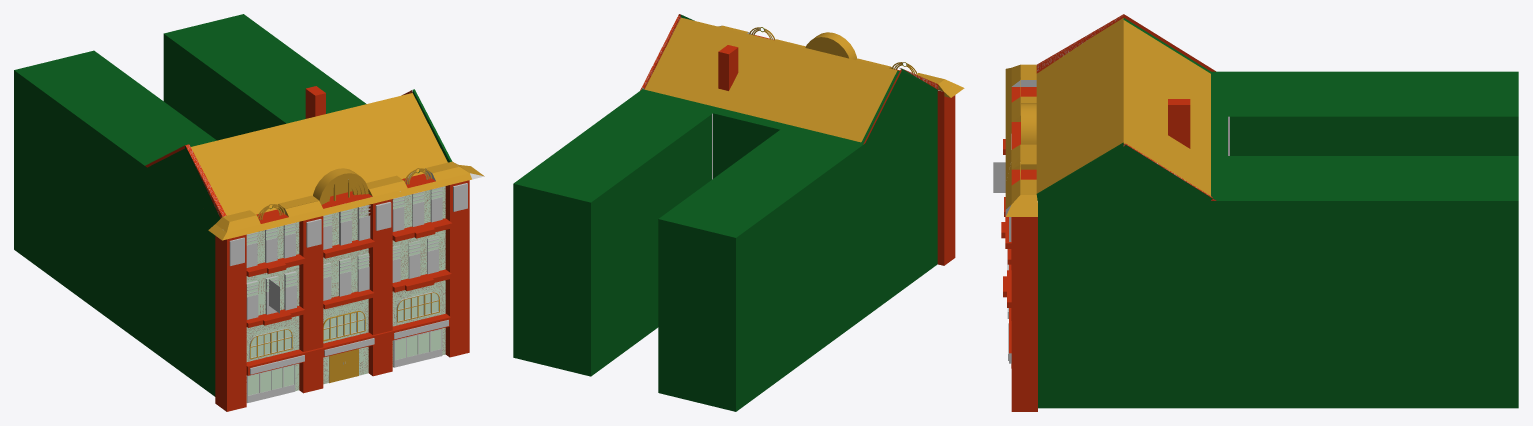
The model's file is hotel2.obj.
The picture shows the model from 3 angles, left to right: view 1: azimuth 30°, elevation 25°; view 2: azimuth 150°, elevation 25°; view 3: azimuth 270°, elevation 25°; orthographic projection. The views are drawn at different scales.
Visible parts, largest first — view 1: SketchUp.003, SketchUp.004, SketchUp.076, SketchUp.270, SketchUp.002, SketchUp.047, SketchUp.006, SketchUp.042, SketchUp.038, SketchUp.181, SketchUp.040, SketchUp (+2 smaller); view 2: SketchUp.003, SketchUp.057, SketchUp.004, SketchUp, SketchUp.005, SketchUp.038; view 3: SketchUp.003, SketchUp.076, SketchUp.057, SketchUp.004, SketchUp.042, SketchUp, SketchUp.006, SketchUp.043, SketchUp.047, SketchUp.038, SketchUp.056.
Part boxes in pixels (left/top/right/bottom): SketchUp.003: left=14, top=14, right=452, bottom=396; SketchUp.004: left=215, top=180, right=469, bottom=411; SketchUp.076: left=191, top=93, right=447, bottom=215; SketchUp.270: left=246, top=186, right=445, bottom=402; SketchUp.002: left=247, top=90, right=442, bottom=403; SketchUp.047: left=247, top=191, right=422, bottom=227; SketchUp.006: left=313, top=168, right=372, bottom=205; SketchUp.042: left=393, top=161, right=484, bottom=191; SketchUp.038: left=208, top=210, right=275, bottom=240; SketchUp.181: left=329, top=349, right=358, bottom=382; SketchUp.040: left=278, top=195, right=322, bottom=217; SketchUp: left=305, top=86, right=325, bottom=118; SketchUp.003: left=513, top=14, right=937, bottom=411; SketchUp.057: left=644, top=17, right=897, bottom=142; SketchUp.004: left=937, top=90, right=955, bottom=265; SketchUp: left=718, top=45, right=738, bottom=90; SketchUp.005: left=805, top=37, right=848, bottom=58; SketchUp.038: left=916, top=73, right=964, bottom=97; SketchUp.003: left=1036, top=18, right=1518, bottom=408; SketchUp.076: left=1036, top=18, right=1123, bottom=193; SketchUp.057: left=1123, top=20, right=1210, bottom=195; SketchUp.004: left=1001, top=139, right=1037, bottom=411; SketchUp.042: left=1005, top=163, right=1037, bottom=216; SketchUp: left=1168, top=99, right=1190, bottom=148; SketchUp.006: left=1012, top=103, right=1036, bottom=144; SketchUp.043: left=1011, top=144, right=1036, bottom=169; SketchUp.047: left=1005, top=79, right=1011, bottom=181; SketchUp.038: left=1005, top=64, right=1036, bottom=98; SketchUp.056: left=1036, top=14, right=1123, bottom=73.
Size of the model in its own units: 3.11 by 2.6 by 4.67.
7 materials, 1 textured.
